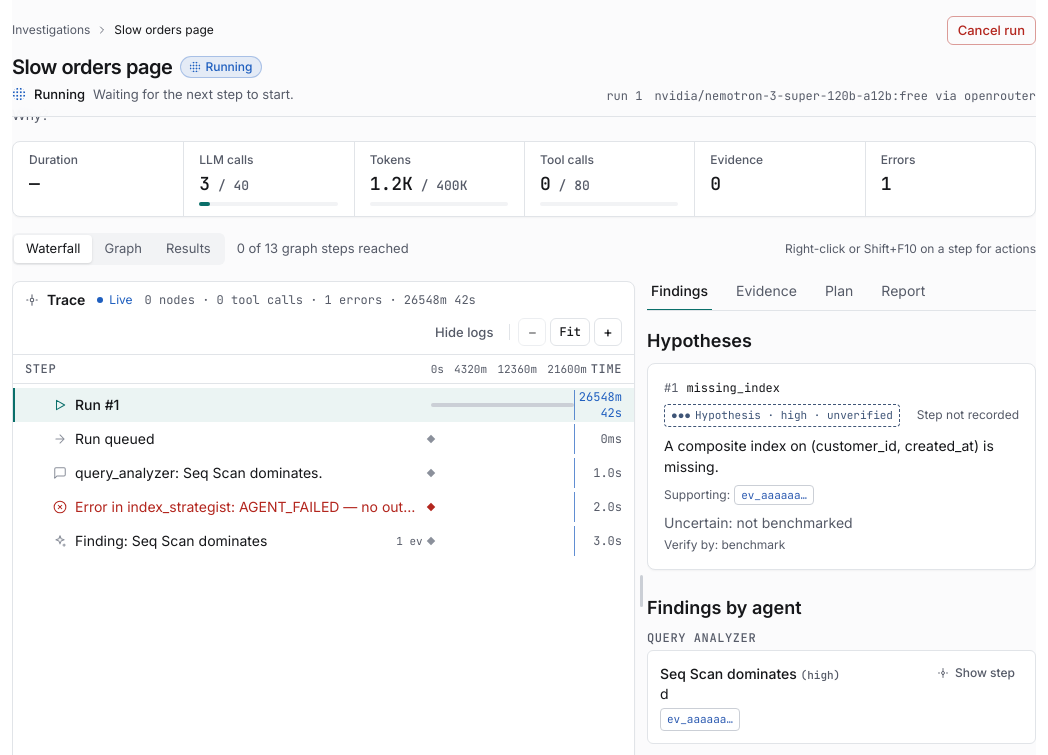
evidence that fails to load is reported with its ID
Click the button with aria-label "Evidence ev_aaaaaaaaaaaa".
click(774, 495)  # box [734,485,814,505]
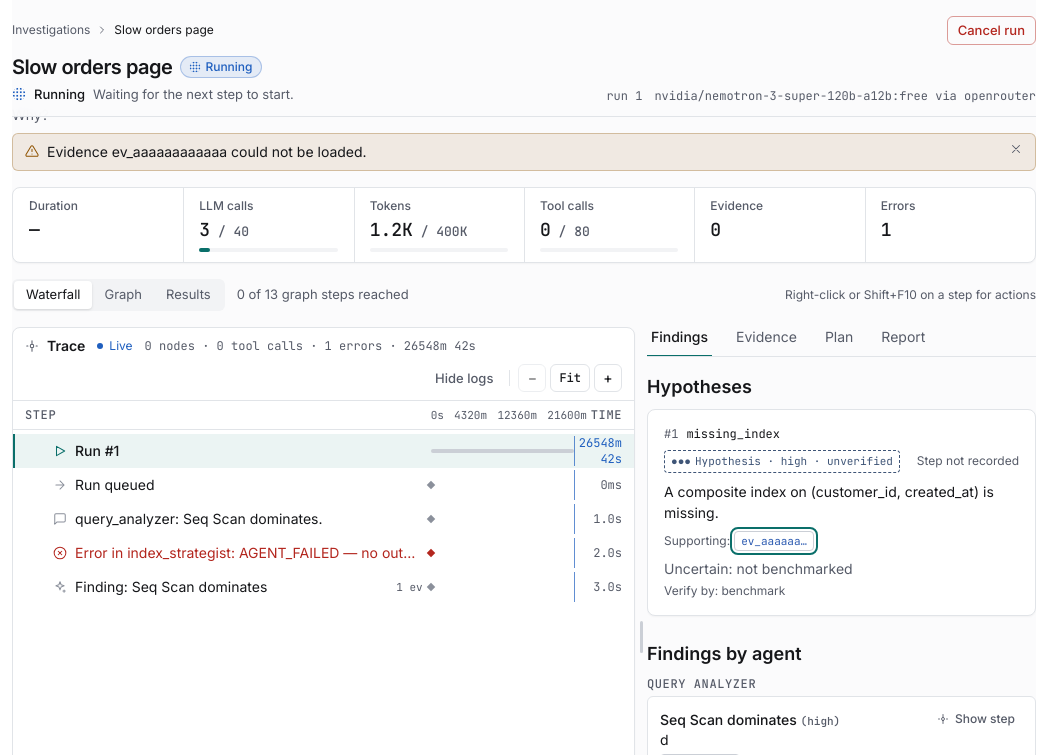
expect the text "Evidence ev_aaaaaaaaaaaa could not be loaded." is shown: met, box [47,143,367,160]
